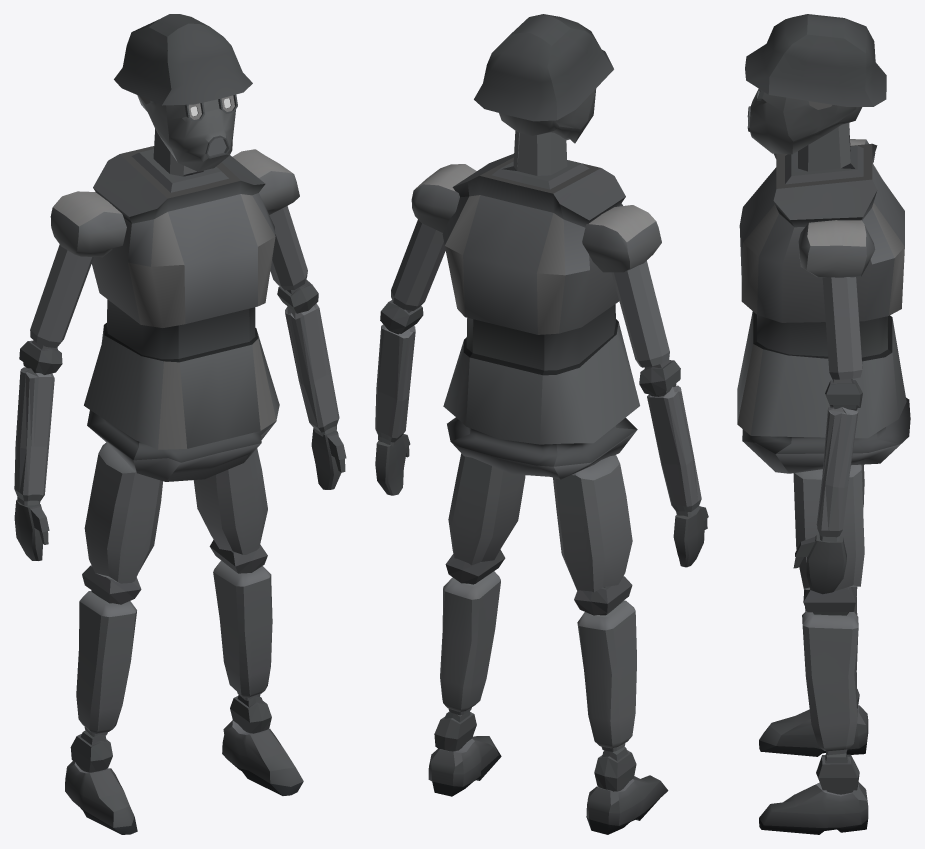
The model's file is INIMIGO PROJETIL.fbx.
3 views of the same model, side by side, from view 1: azimuth 30°, elevation 25°; view 2: azimuth 150°, elevation 25°; view 3: azimuth 270°, elevation 25° (orthographic).
Parts seen in each view (by area): view 1: torso, capacete, polySurface105, polySurface103, polySurface98, polySurface100, cabeça, polySurface88, polySurface87, polySurface96, polySurface99, polySurface90 (+11 smaller); view 2: torso, capacete, polySurface105, polySurface103, polySurface98, polySurface100, polySurface88, polySurface96, polySurface87, polySurface90, polySurface89, polySurface104 (+11 smaller); view 3: torso, capacete, polySurface98, cabeça, polySurface100, polySurface99, polySurface95, polySurface87, polySurface89, polySurface104, polySurface91, polySurface97 (+2 smaller).
Part boxes in pixels (<box>): torso: <box>84,129,279,481</box>; capacete: <box>114,14,252,105</box>; polySurface105: <box>84,442,162,583</box>; polySurface103: <box>76,591,136,737</box>; polySurface98: <box>213,560,272,700</box>; polySurface100: <box>193,448,267,554</box>; cabeça: <box>137,94,237,171</box>; polySurface88: <box>14,367,54,505</box>; polySurface87: <box>285,303,339,436</box>; polySurface96: <box>50,191,126,257</box>; polySurface99: <box>222,720,303,795</box>; polySurface90: <box>30,244,93,347</box>; torso: <box>442,131,639,479</box>; capacete: <box>474,14,613,121</box>; polySurface105: <box>553,455,632,592</box>; polySurface103: <box>577,600,636,751</box>; polySurface98: <box>440,571,500,715</box>; polySurface100: <box>448,453,525,565</box>; polySurface88: <box>647,385,701,516</box>; polySurface96: <box>582,205,661,272</box>; polySurface87: <box>375,324,415,446</box>; polySurface90: <box>611,260,669,367</box>; polySurface89: <box>391,219,445,310</box>; polySurface104: <box>586,775,668,834</box>; torso: <box>737,123,910,473</box>; capacete: <box>745,14,886,106</box>; polySurface98: <box>802,611,858,755</box>; cabeça: <box>747,88,862,154</box>; polySurface100: <box>793,464,864,591</box>; polySurface99: <box>759,782,868,834</box>; polySurface95: <box>798,220,875,277</box>; polySurface87: <box>816,406,858,541</box>; polySurface89: <box>822,277,862,379</box>; polySurface104: <box>759,705,868,756</box>; polySurface91: <box>793,534,846,594</box>; polySurface97: <box>816,752,859,794</box>.
Bounding box in the file's own units: 1.74 × 4.06 × 0.8247.
Materials: 1 (1 with a texture image).
